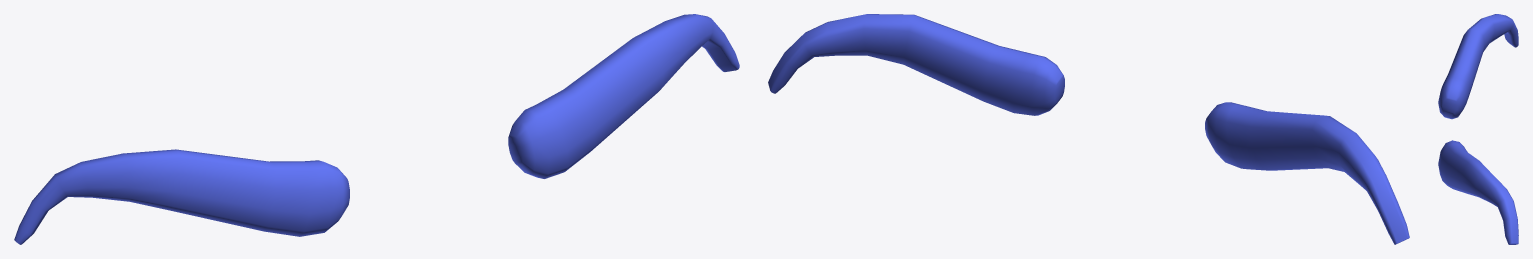
Rendered from Eyebrows_20_03.fbx.
3 views of the same model, side by side, from view 1: azimuth 30°, elevation 25°; view 2: azimuth 150°, elevation 25°; view 3: azimuth 270°, elevation 25° (orthographic). The views are drawn at different scales.
Parts seen in each view (by area): view 1: Eyebrows_20_03; view 2: Eyebrows_20_03; view 3: Eyebrows_20_03.
Boxes of the visible parts, x1,y1,x2,y2 form: Eyebrows_20_03: (14, 14, 739, 244); Eyebrows_20_03: (768, 14, 1409, 244); Eyebrows_20_03: (1438, 14, 1518, 244).
Size of the model in its own units: 19.57 by 2.5 by 3.27.
